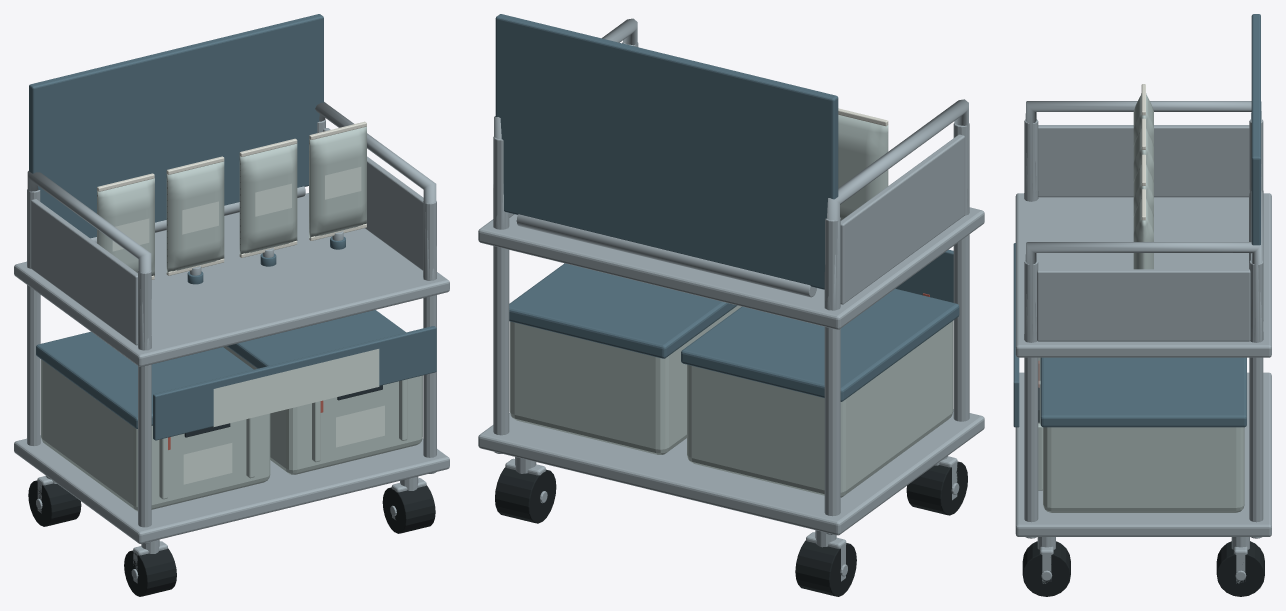
The model's file is OD_NutritionTransferCart.fbx.
The picture shows the model from 3 angles, left to right: view 1: azimuth 30°, elevation 25°; view 2: azimuth 150°, elevation 25°; view 3: azimuth 270°, elevation 25°; orthographic projection. The views are drawn at different scales.
Parts seen in each view (by area): view 1: OD_NutritionTransferCart; view 2: OD_NutritionTransferCart; view 3: OD_NutritionTransferCart.
Boxes of the visible parts, x1,y1,x2,y2 form: OD_NutritionTransferCart: [14, 14, 449, 596]; OD_NutritionTransferCart: [478, 14, 984, 596]; OD_NutritionTransferCart: [1013, 14, 1271, 596].
Size of the model in its own units: 94 by 125 by 66.7.
